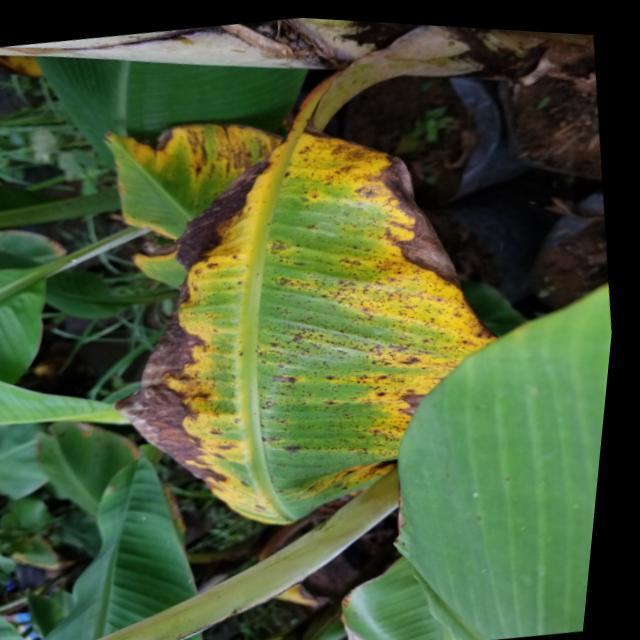Early_rust: (80, 100, 515, 529), (0, 20, 76, 108)
